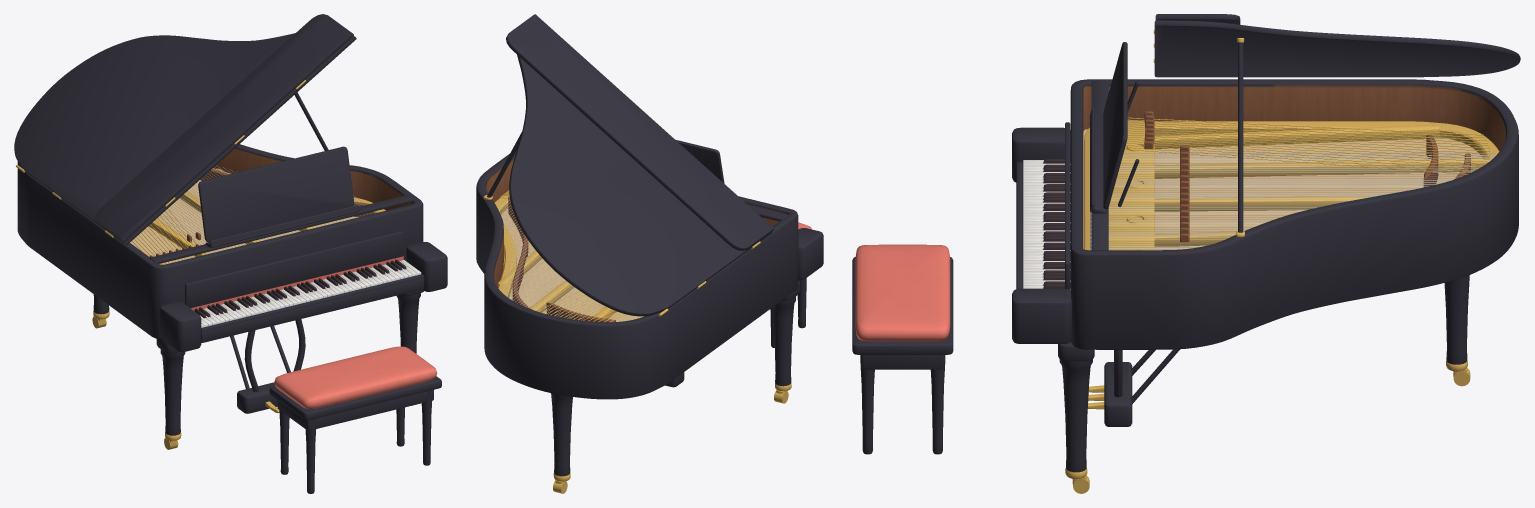
File: grand-piano.glb
3 renders of one model, left to right at view 1: azimuth 30°, elevation 25°; view 2: azimuth 150°, elevation 25°; view 3: azimuth 270°, elevation 25°, orthographic. The views are drawn at different scales.
Visible parts, largest first — view 1: grand-piano_body, grand-piano_lid, grand-piano_bench, grand-piano_fallboard, grand-piano_strings_steel, grand-piano_strings_bass; view 2: grand-piano_lid, grand-piano_body, grand-piano_strings_steel, grand-piano_strings_bass, grand-piano_bench; view 3: grand-piano_body, grand-piano_lid, grand-piano_bench, grand-piano_strings_steel, grand-piano_strings_bass, grand-piano_stick, grand-piano_fallboard.
Part boxes in pixels (x1,y1,x2,y2): grand-piano_body: (17,144,447,449); grand-piano_lid: (14,14,356,245); grand-piano_bench: (269,346,441,493); grand-piano_fallboard: (185,231,403,308); grand-piano_strings_steel: (157,165,376,254); grand-piano_strings_bass: (132,209,205,264); grand-piano_lid: (506,14,773,316); grand-piano_body: (476,139,823,493); grand-piano_strings_steel: (498,200,601,320); grand-piano_strings_bass: (537,291,624,322); grand-piano_bench: (770,222,811,347); grand-piano_body: (1012,42,1518,493); grand-piano_lid: (1153,14,1520,77); grand-piano_bench: (852,244,953,454); grand-piano_strings_steel: (1108,153,1495,249); grand-piano_strings_bass: (1124,117,1490,174); grand-piano_stick: (1236,38,1244,237); grand-piano_fallboard: (1065,122,1070,289).
Size of the model in its own units: 1.51 by 1.81 by 2.39.
Materials: 7 (5 with a texture image).
